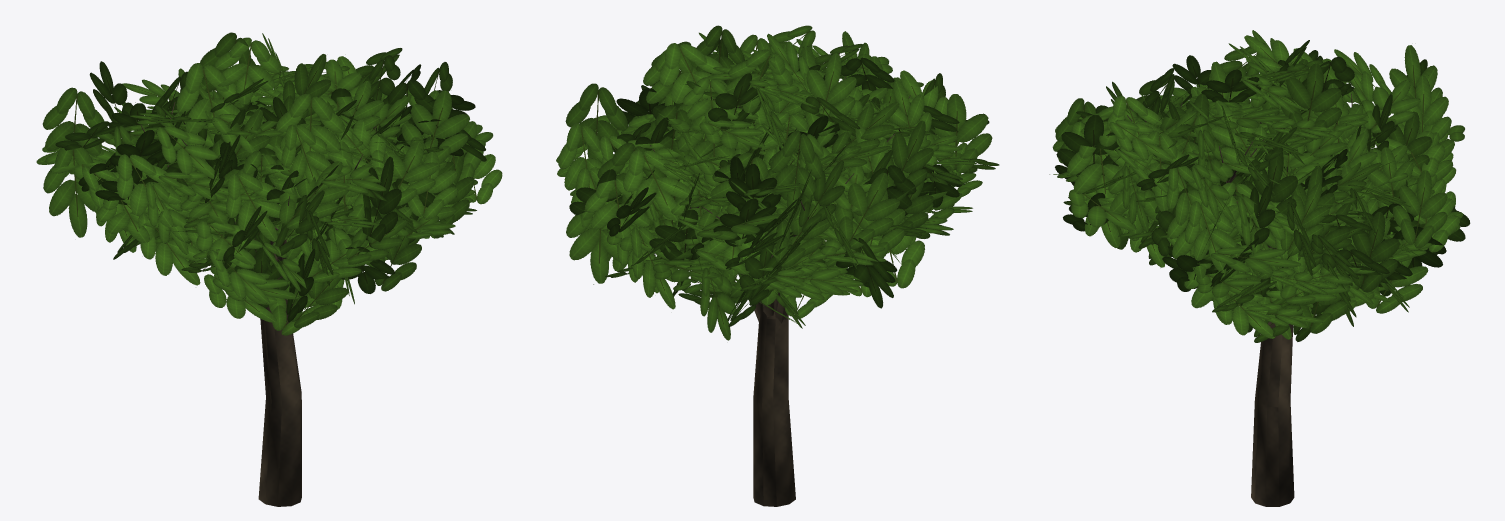
File: tree-broadleaf.glb
3 renders of one model, left to right at view 1: azimuth 30°, elevation 25°; view 2: azimuth 150°, elevation 25°; view 3: azimuth 270°, elevation 25°, orthographic. The views are drawn at different scales.
Parts seen in each view (by area): view 1: LeafSprays, Trunk.001; view 2: LeafSprays, Trunk.001; view 3: LeafSprays, Trunk.001.
Part boxes in pixels (<box>): LeafSprays: <box>36,32,502,335</box>; Trunk.001: <box>141,102,375,506</box>; LeafSprays: <box>556,25,999,340</box>; Trunk.001: <box>650,52,910,506</box>; LeafSprays: <box>1049,30,1470,342</box>; Trunk.001: <box>1127,93,1352,506</box>.
Size of the model in its own units: 2.86 by 3.03 by 2.83.
2 materials, 2 textured.
